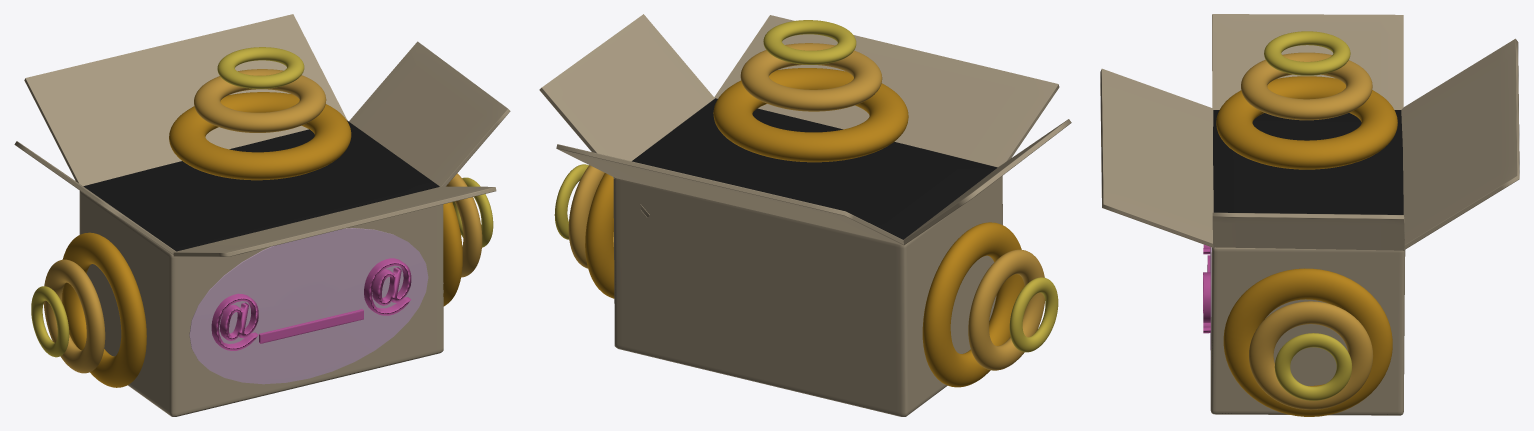
The picture shows the model from 3 angles, left to right: view 1: azimuth 30°, elevation 25°; view 2: azimuth 150°, elevation 25°; view 3: azimuth 270°, elevation 25°; orthographic projection. The views are drawn at different scales.
Size of the model in its own units: 6.34 by 4.05 by 5.13.
